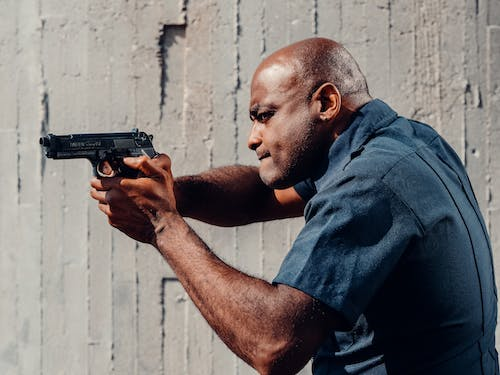gun: (37, 126, 159, 181)
